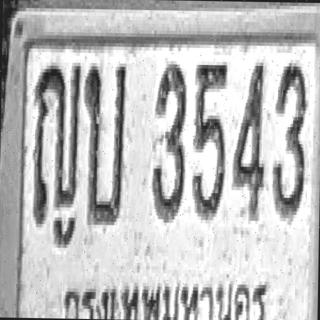A13: (32, 60, 82, 226)
A26: (82, 61, 127, 226)
N03: (150, 60, 187, 220), (272, 59, 306, 218)
N04: (232, 58, 266, 221)
N05: (192, 58, 228, 220)
